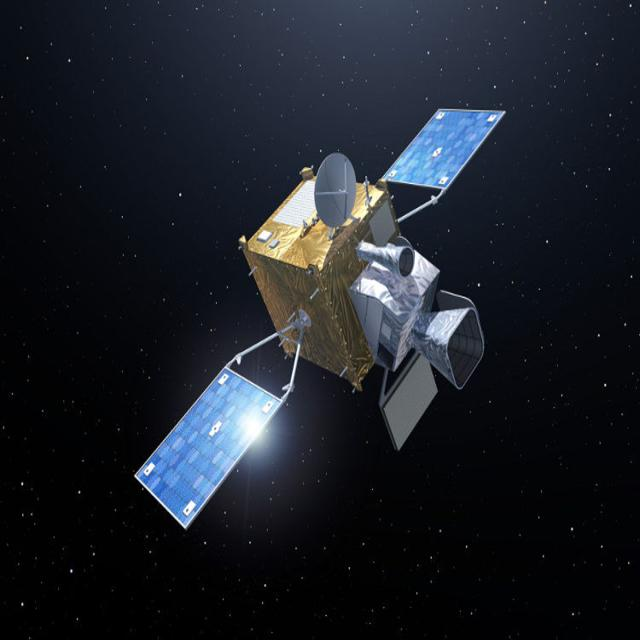medium_debris: (130, 85, 512, 548)
